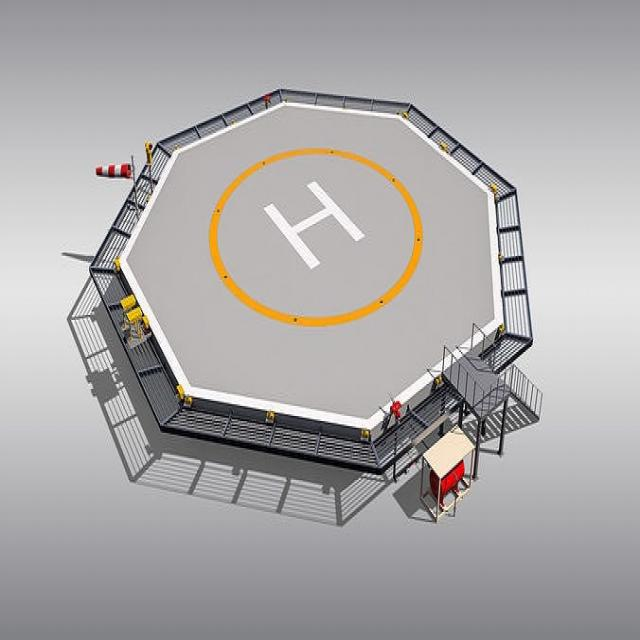helipad: (205, 138, 424, 332)
